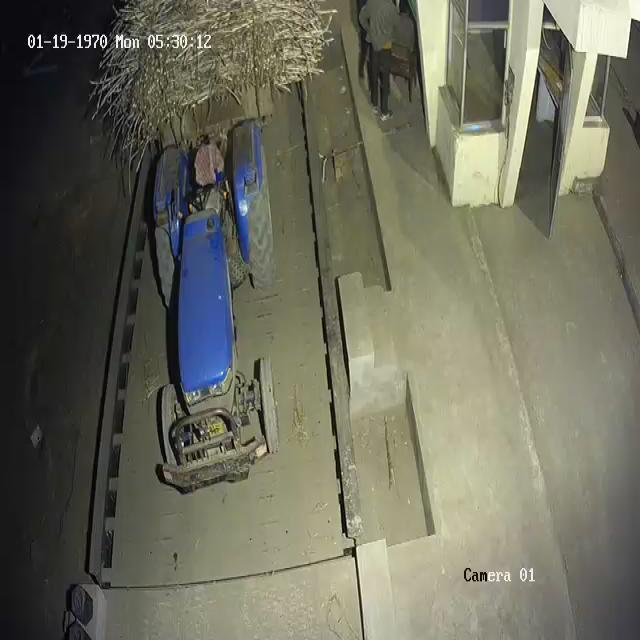Tratores - v5 YOLO V8L 2024-11-13: (147, 118, 278, 490)
